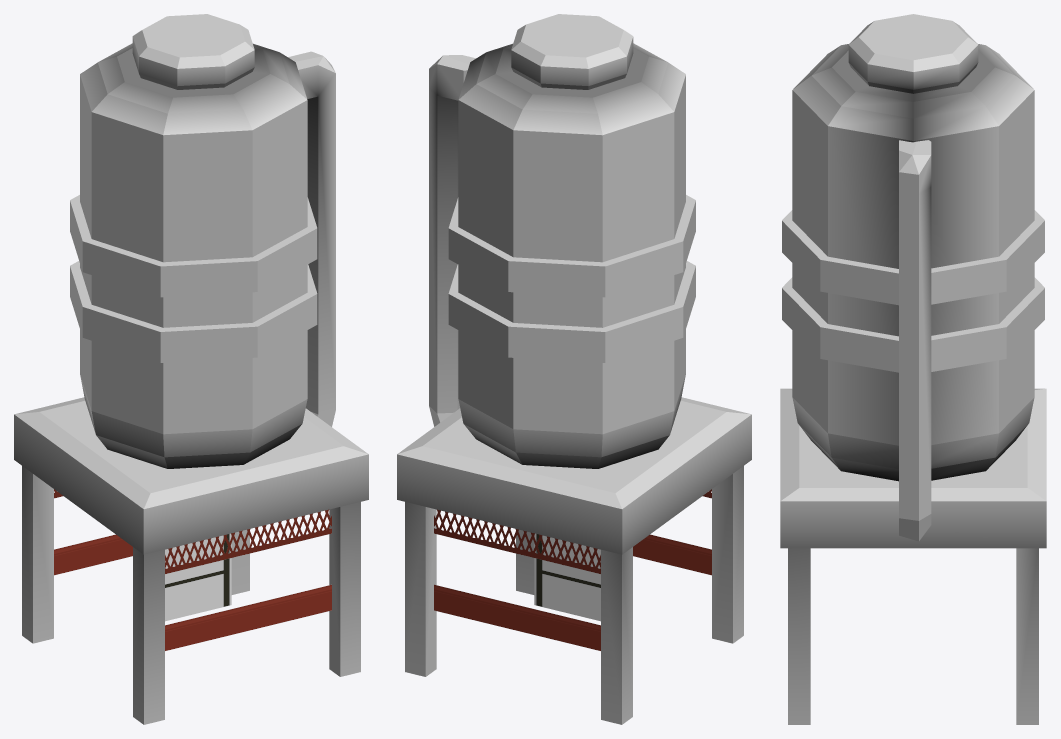
File: SlideObjMetalTank.fbx
3 renders of one model, left to right at view 1: azimuth 30°, elevation 25°; view 2: azimuth 150°, elevation 25°; view 3: azimuth 270°, elevation 25°, orthographic. The views are drawn at different scales.
Visible parts, largest first — view 1: WaterTank, WaterTankGrid, WaterTankLadder; view 2: WaterTank, WaterTankGrid, WaterTankLadder; view 3: WaterTank.
Boxes of the visible parts, x1,y1,x2,y2 form: WaterTank: (14, 14, 368, 724); WaterTankGrid: (54, 489, 331, 650); WaterTankLadder: (165, 533, 231, 621); WaterTank: (397, 14, 751, 724); WaterTankGrid: (434, 489, 711, 650); WaterTankLadder: (534, 533, 600, 621); WaterTank: (780, 14, 1046, 724).
Bounding box in the file's own units: 113 × 260 × 99.01.
